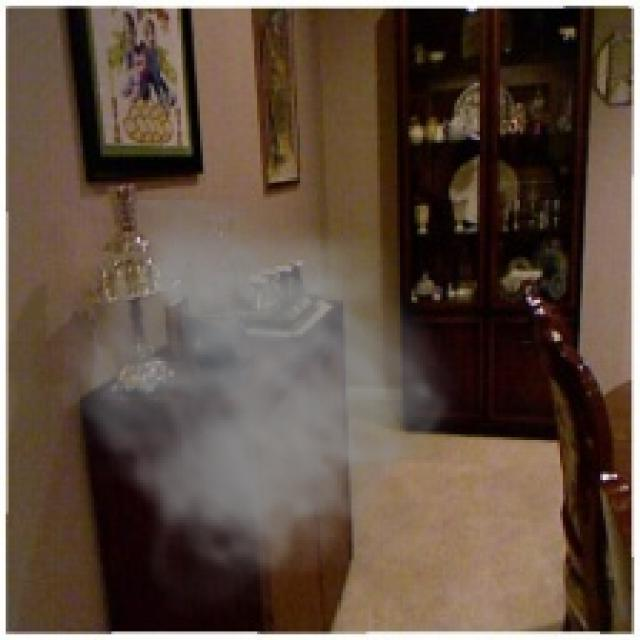smoke: (43, 200, 468, 620)
